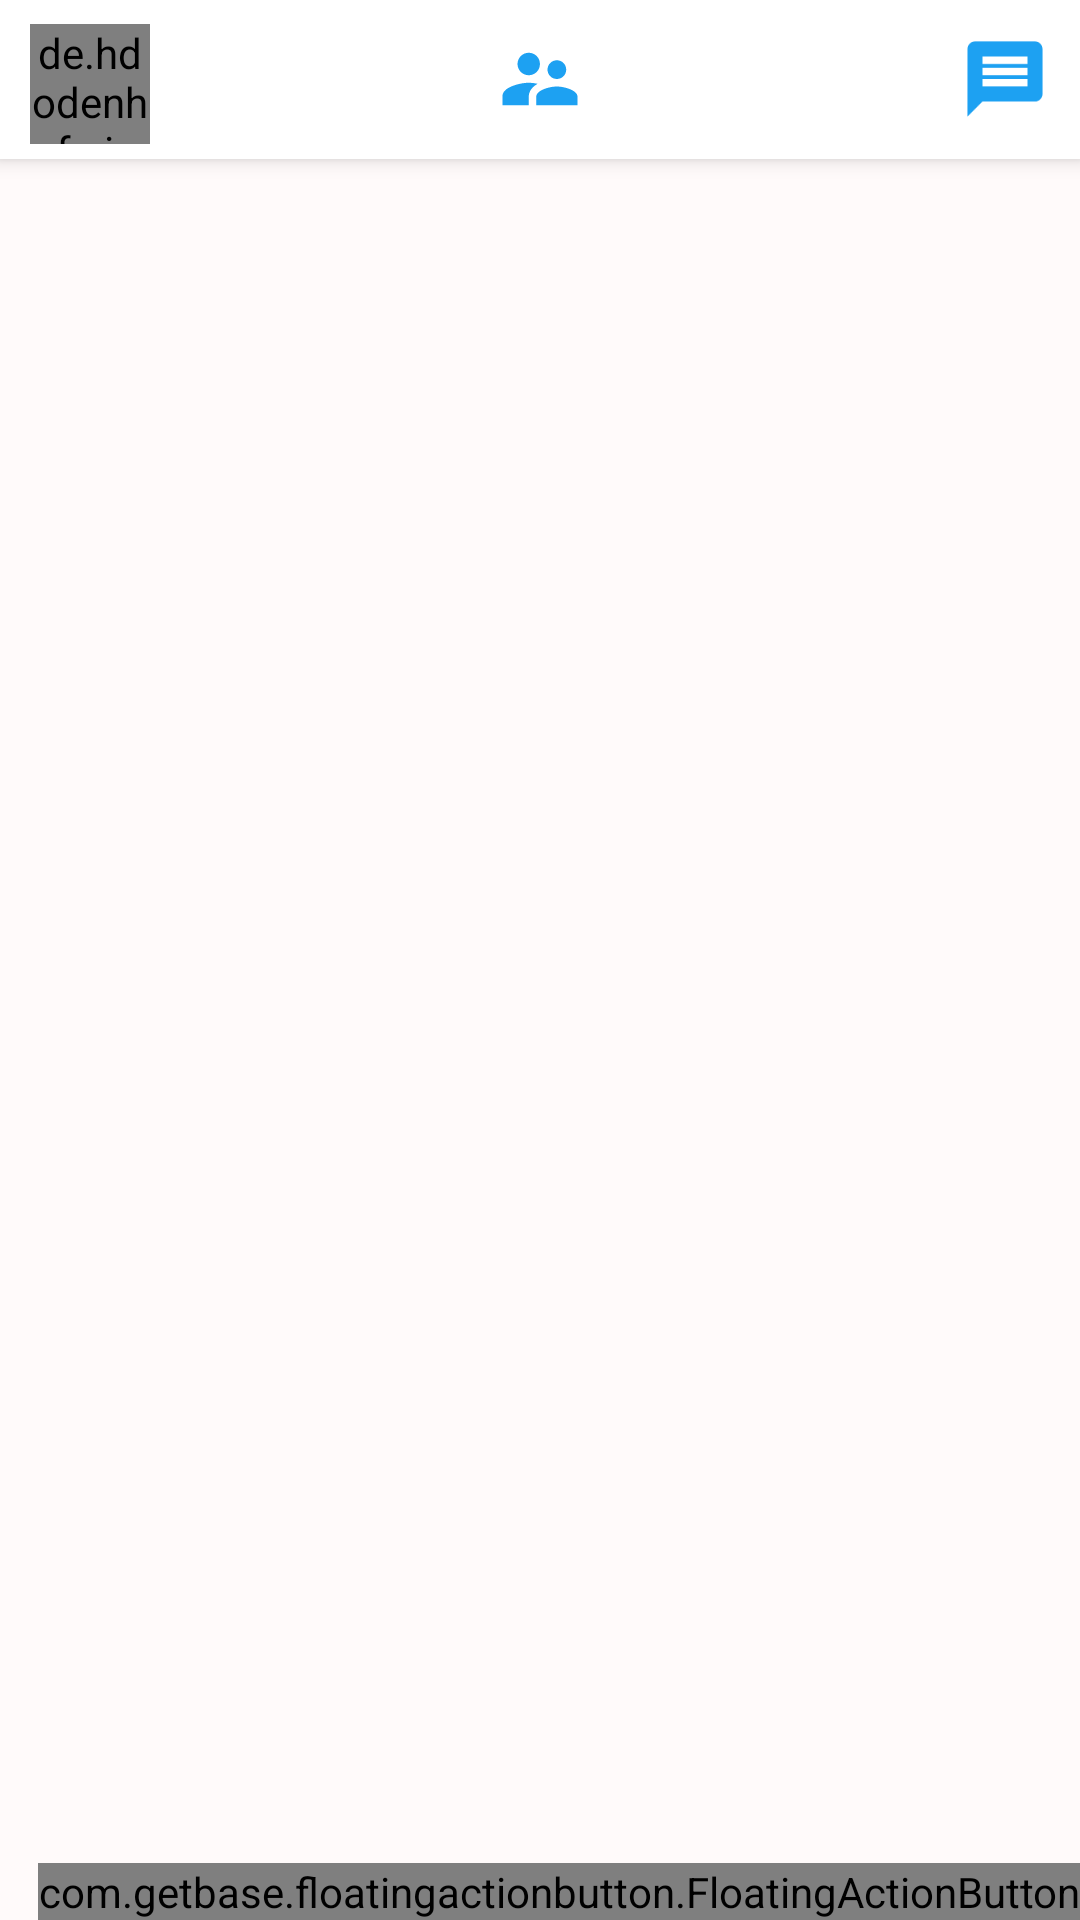

Named icons in this screenshot (1080px x 1920px) and their bounding boxes, (x1, y1, x2, y2):
message: (967, 41, 1043, 117)
supervisor account: (502, 52, 578, 106)
